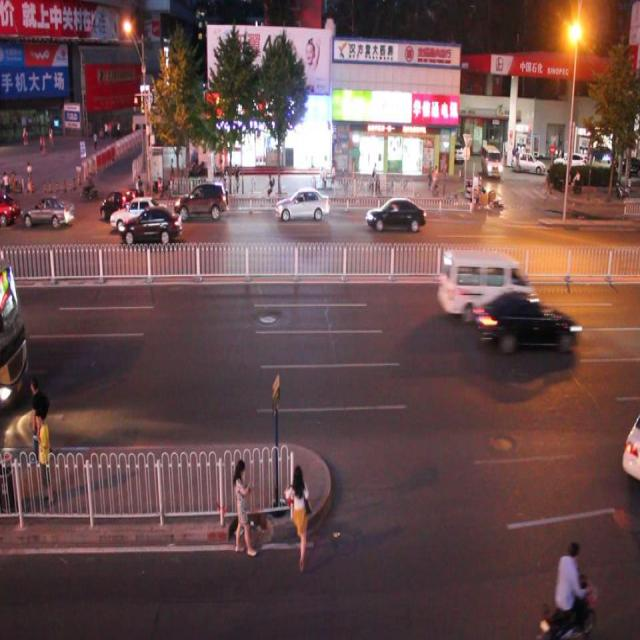car: (468, 287, 579, 355), (118, 202, 183, 248), (366, 195, 427, 234), (21, 192, 76, 232), (111, 193, 170, 228), (174, 180, 228, 218), (276, 186, 329, 222), (101, 180, 145, 223), (618, 407, 640, 487)
truck: (438, 244, 533, 326)
